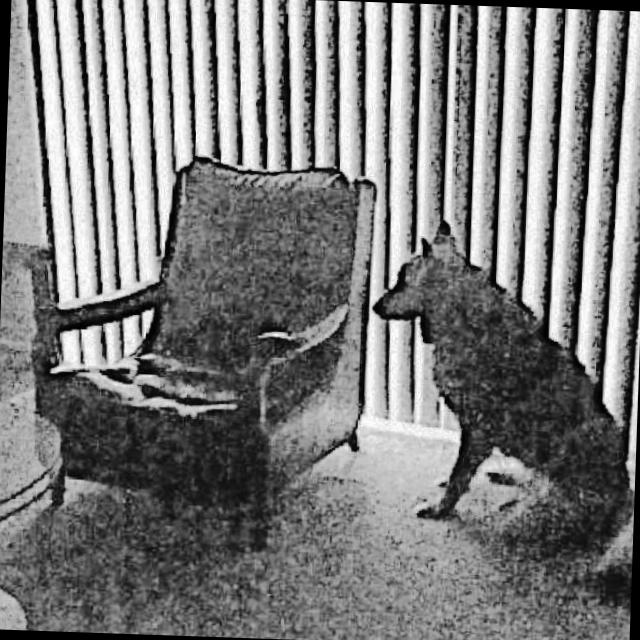Dog: (360, 211, 640, 564)
